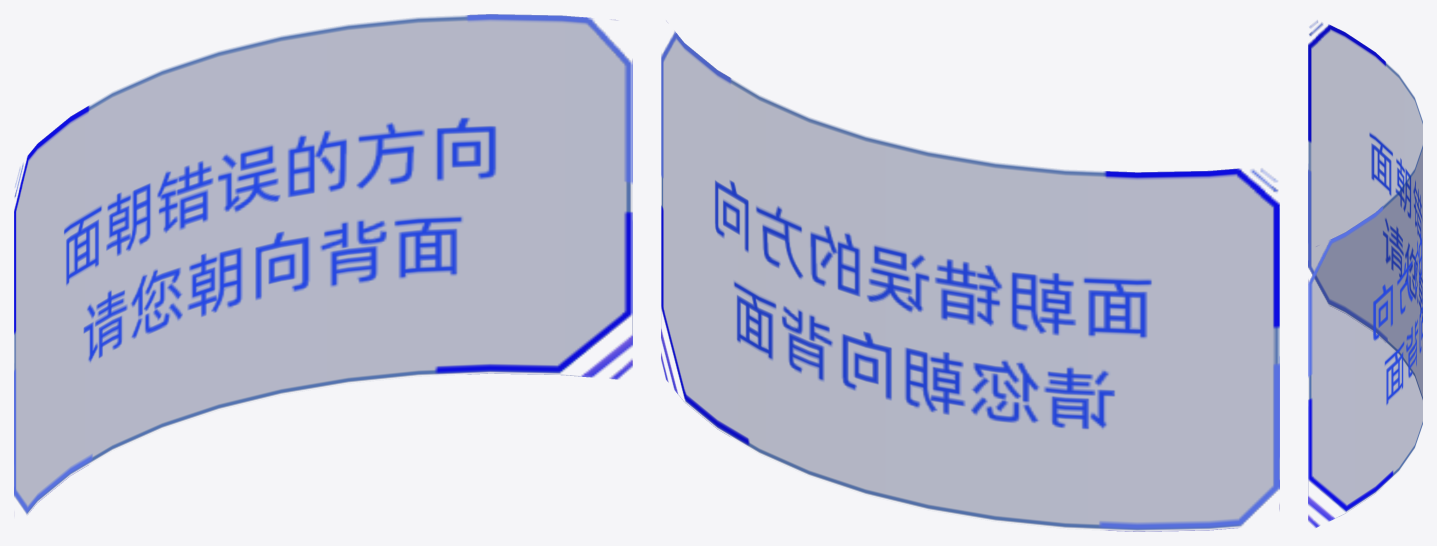
File: turn.glb
3 views of the same model, side by side, from view 1: azimuth 30°, elevation 25°; view 2: azimuth 150°, elevation 25°; view 3: azimuth 270°, elevation 25° (orthographic). The views are drawn at different scales.
Visible parts, largest first — view 1: 平面; view 2: 平面; view 3: 平面.
Boxes of the visible parts, x1=… form: 平面: x1=14, y1=14, x2=632, y2=514; 平面: x1=661, y1=31, x2=1279, y2=531; 平面: x1=1308, y1=20, x2=1422, y2=527.
Size of the model in its own units: 1.8 by 1 by 0.3697.
Materials: 1 (1 with a texture image).
